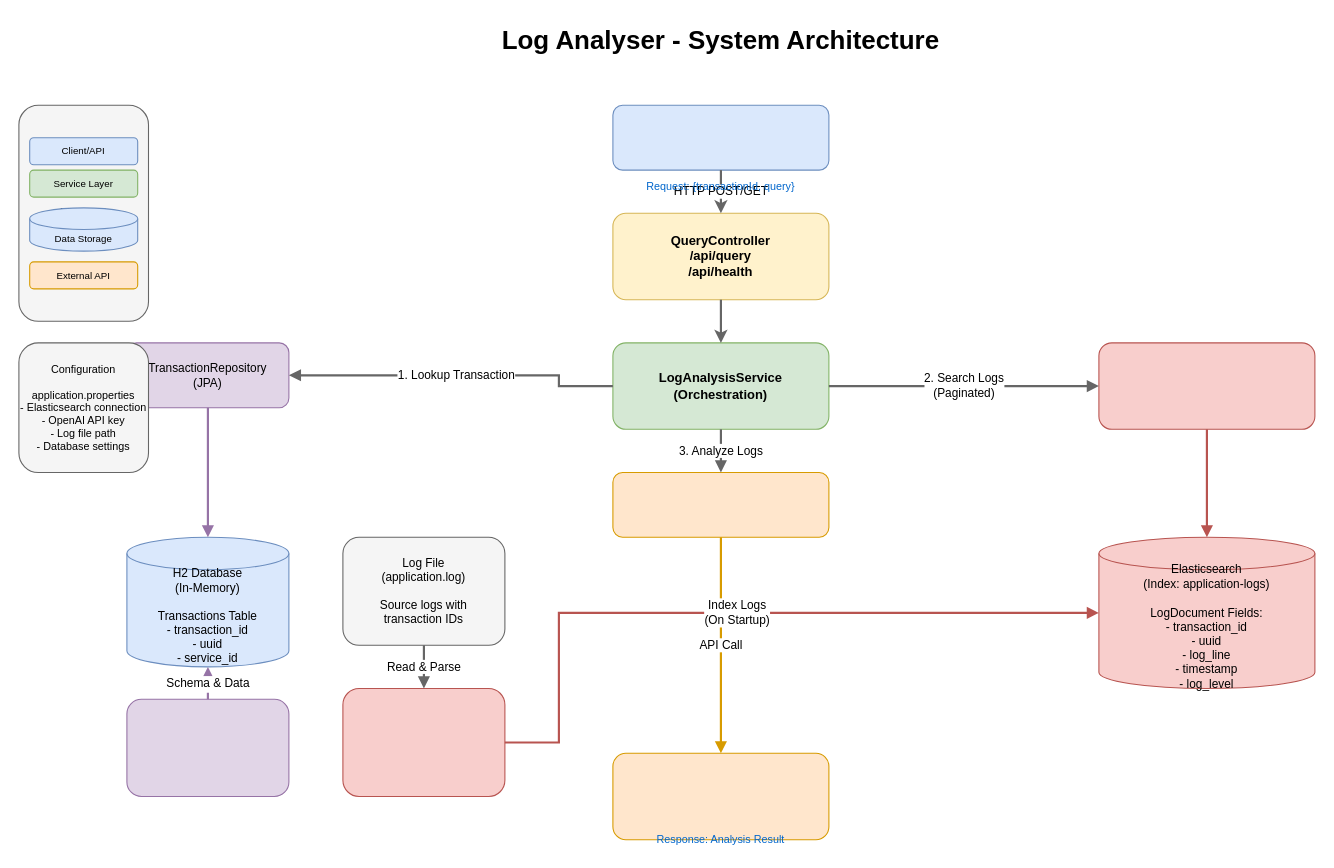
Image size: 1334x868. Some labels were removed from this diagram. The shapes that lost their labels are listed below. From the top down, each one's box as (x1, y1, x2, y2) in pixels, then its label:
(612, 104, 829, 170): Client Applications
(1098, 342, 1315, 429): ElasticsearchService (Log Search & Pagination)
(612, 471, 829, 537): OpenAIService (AI Analysis)
(126, 698, 289, 796): Liquibase (Schema Management) Creates tables Inserts transaction data
(342, 687, 505, 796): LogIndexingService (Startup Indexing) Parses log file Indexes to Elasticsearch
(612, 752, 829, 840): OpenAI API (GPT-4) Log Analysis & Insights
